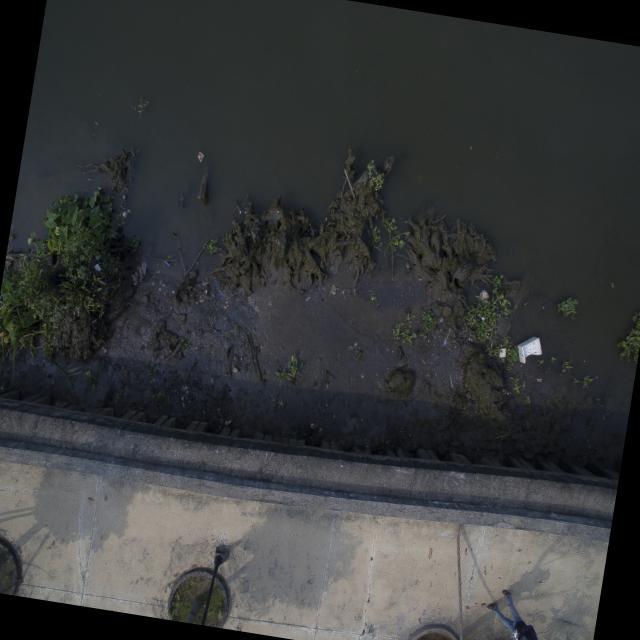Plastic: (514, 334, 545, 366), (130, 258, 148, 288), (478, 290, 490, 304), (328, 284, 340, 296), (498, 347, 508, 358), (94, 263, 102, 272), (180, 384, 188, 392), (224, 419, 232, 426), (164, 260, 172, 267), (121, 211, 128, 218), (232, 368, 238, 373), (180, 397, 184, 401), (186, 391, 189, 394)
